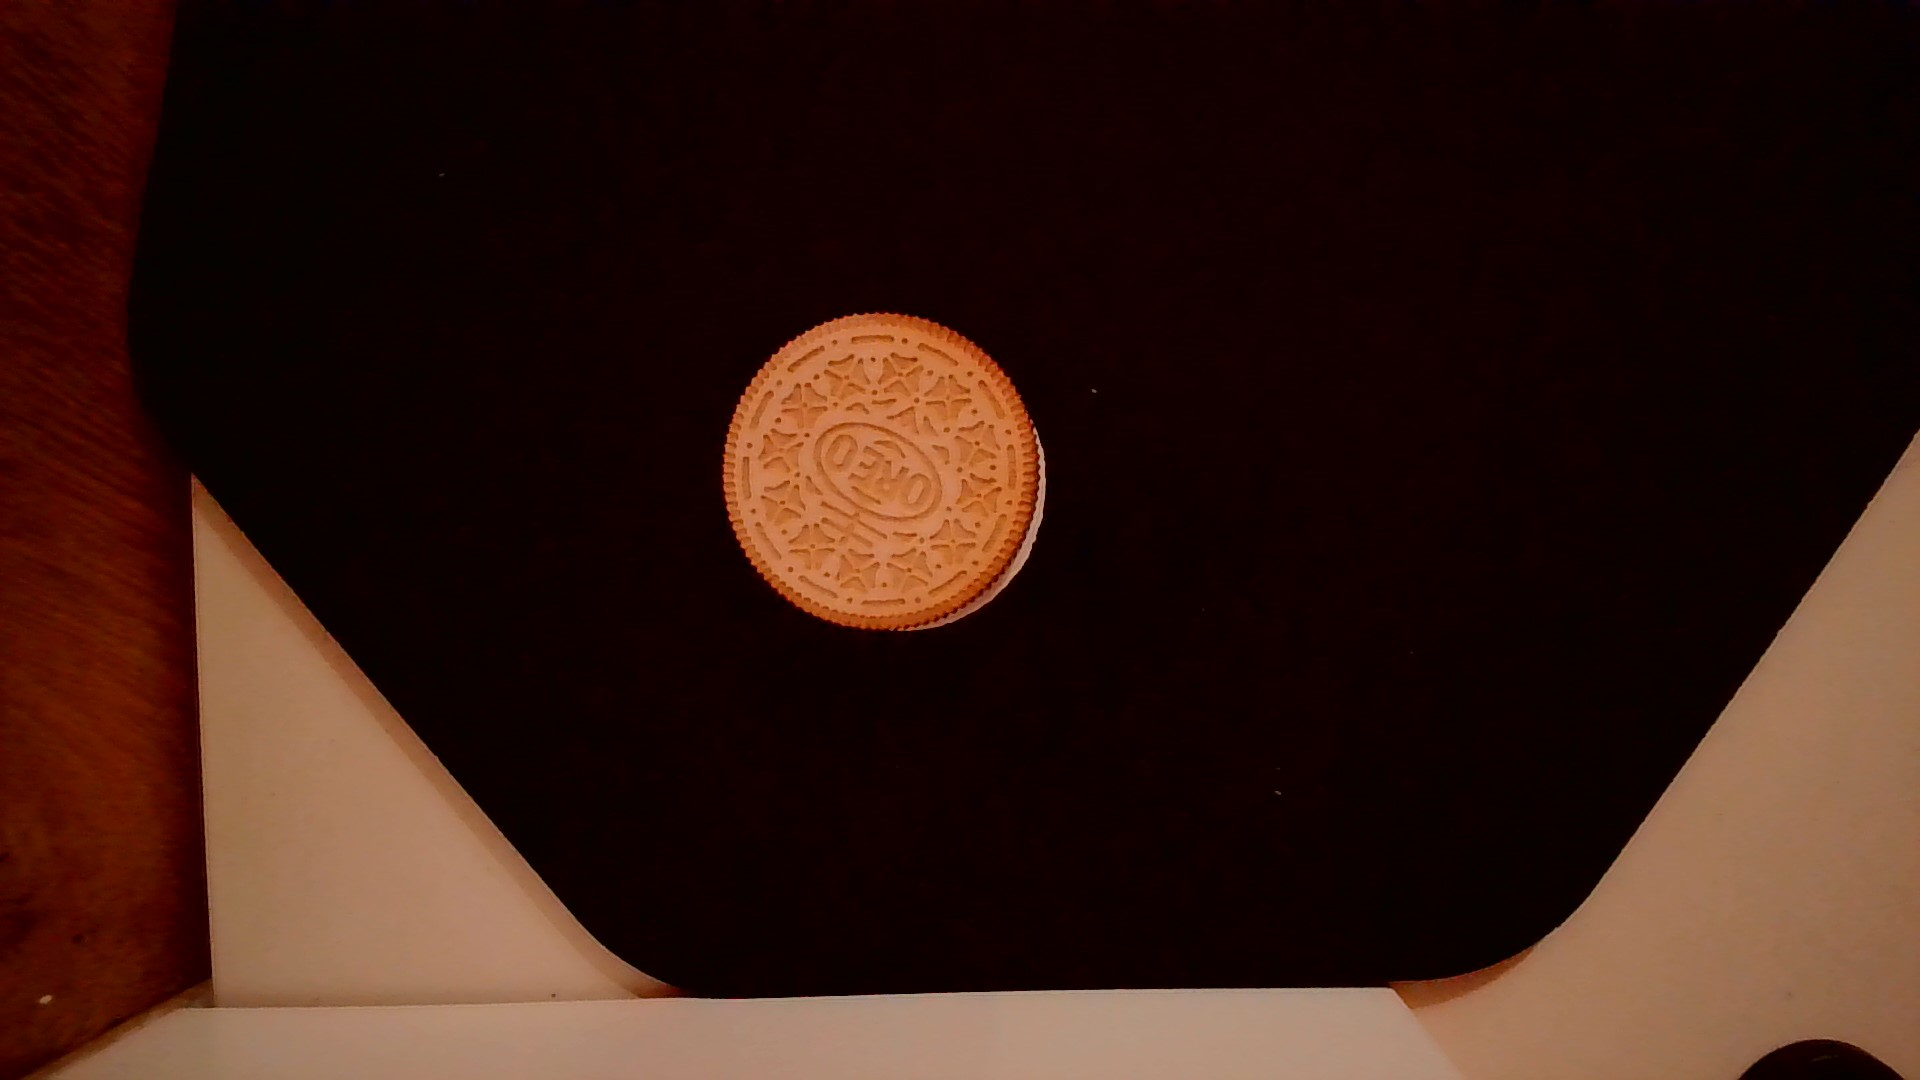Décalé: (890, 415, 1054, 634)
Oréo: (717, 307, 1052, 640)
